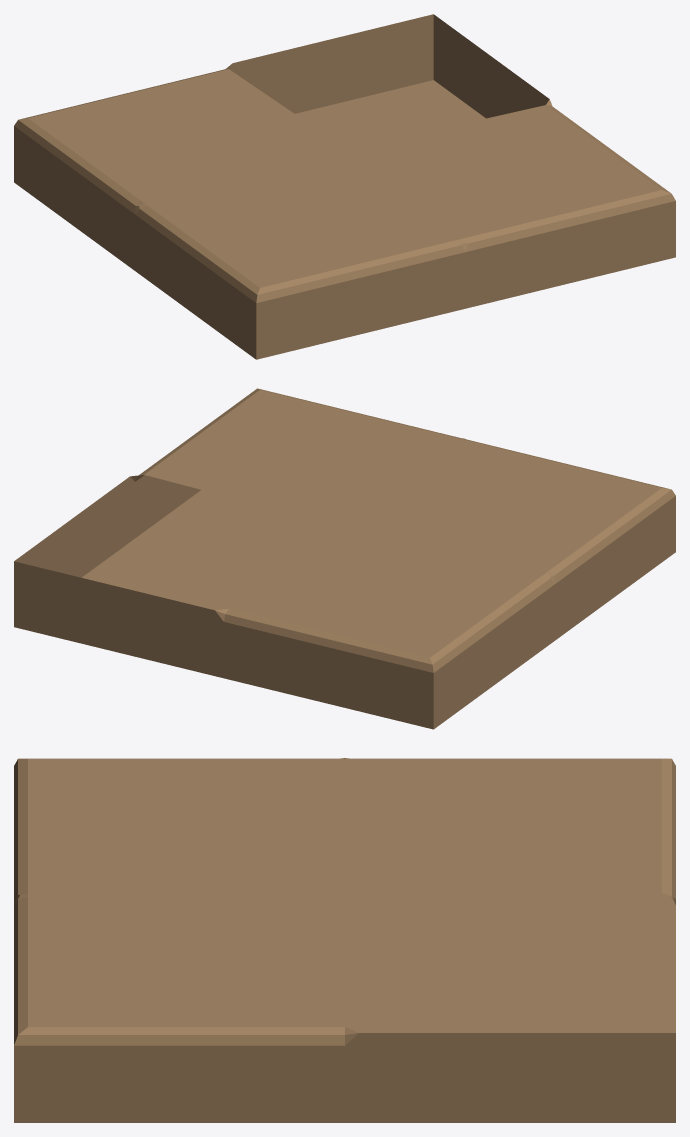
Rendered from corner_trace.glb.
3 renders of one model, top to bottom at view 1: azimuth 30°, elevation 25°; view 2: azimuth 150°, elevation 25°; view 3: azimuth 270°, elevation 25°, orthographic. The views are drawn at different scales.
Parts seen in each view (by area): view 1: corner_trace; view 2: corner_trace; view 3: corner_trace.
Boxes of the visible parts, x1=… form: corner_trace: x1=14, y1=14, x2=675, y2=359; corner_trace: x1=14, y1=388, x2=675, y2=729; corner_trace: x1=14, y1=758, x2=675, y2=1122.
Bounding box in the file's own units: 1 × 0.15 × 1.
